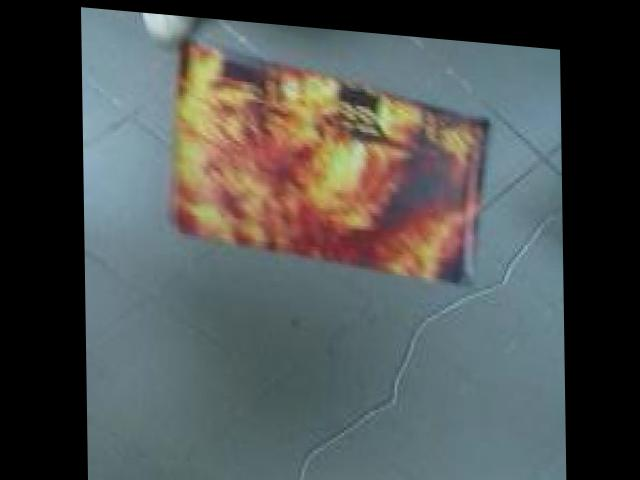fire-poster: (166, 26, 492, 283)
